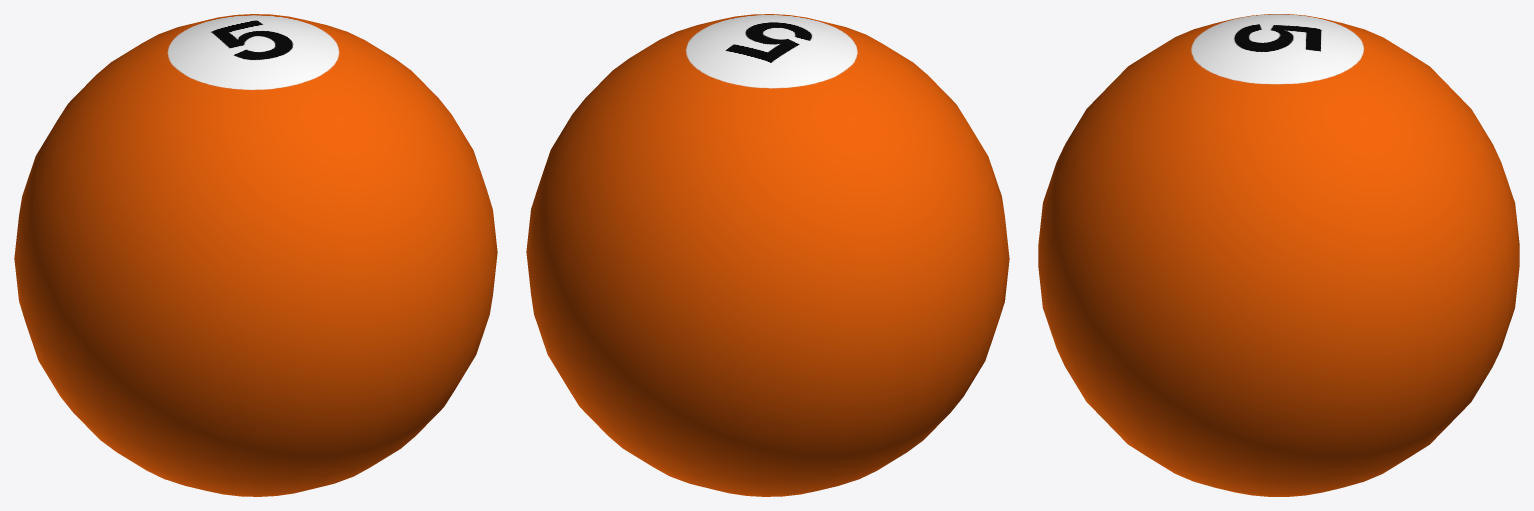
File: 5Ball.glb
3 views of the same model, side by side, from view 1: azimuth 30°, elevation 25°; view 2: azimuth 150°, elevation 25°; view 3: azimuth 270°, elevation 25° (orthographic).
Visible parts, largest first — view 1: SphereSolid; view 2: SphereSolid; view 3: SphereSolid.
Part boxes in pixels (left/top/right/bottom): SphereSolid: left=14, top=14, right=497, bottom=496; SphereSolid: left=526, top=14, right=1009, bottom=496; SphereSolid: left=1038, top=14, right=1519, bottom=496.
Size of the model in its own units: 0.1991 by 0.2 by 0.1991.
Materials: 1 (1 with a texture image).
